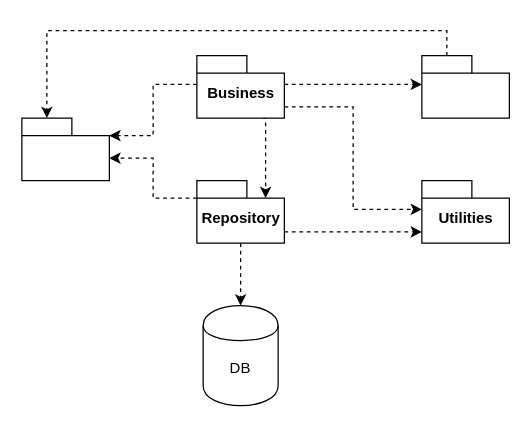
This 531x428 diagram has some shape labels left out. The centre of each missing label's shape, as x and y in pixels:
"Entity" goes at (65,149).
"Wrappers" goes at (465,86).
